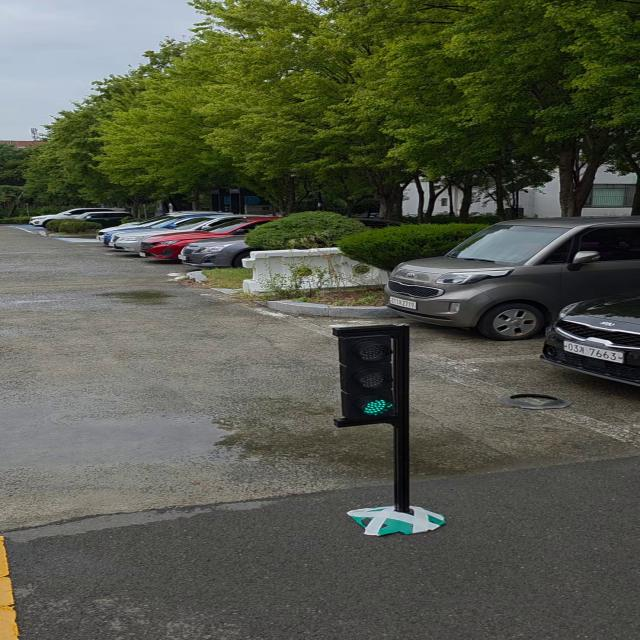green: (342, 332, 406, 423)
